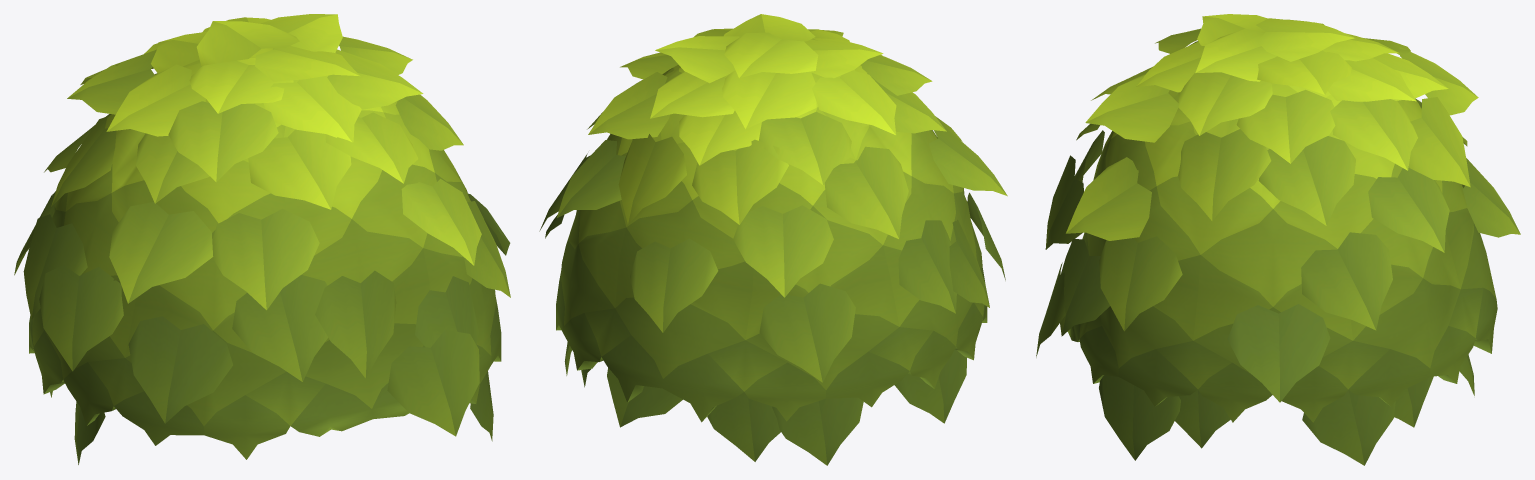
The model's file is elf_foliage_mid.fbx.
3 renders of one model, left to right at view 1: azimuth 30°, elevation 25°; view 2: azimuth 150°, elevation 25°; view 3: azimuth 270°, elevation 25°, orthographic. The views are drawn at different scales.
Visible parts, largest first — view 1: elf_foliage_mid; view 2: elf_foliage_mid; view 3: elf_foliage_mid.
Part boxes in pixels (x1=…): elf_foliage_mid: x1=14, y1=14, x2=510, y2=464; elf_foliage_mid: x1=539, y1=14, x2=1007, y2=465; elf_foliage_mid: x1=1036, y1=14, x2=1520, y2=465.
Bounding box in the file's own units: 5.31 × 4.17 × 5.14.
